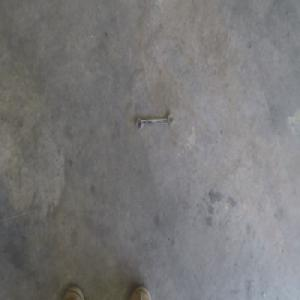Wrench: (135, 113, 174, 130)
